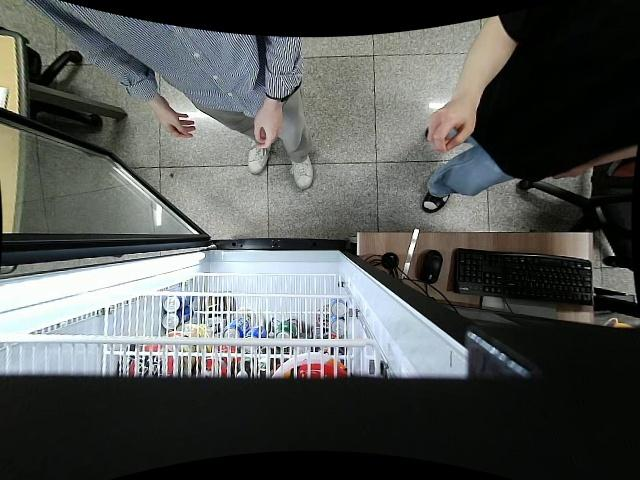00_hand: (427, 102, 477, 152), (155, 96, 196, 139), (252, 107, 282, 150)
